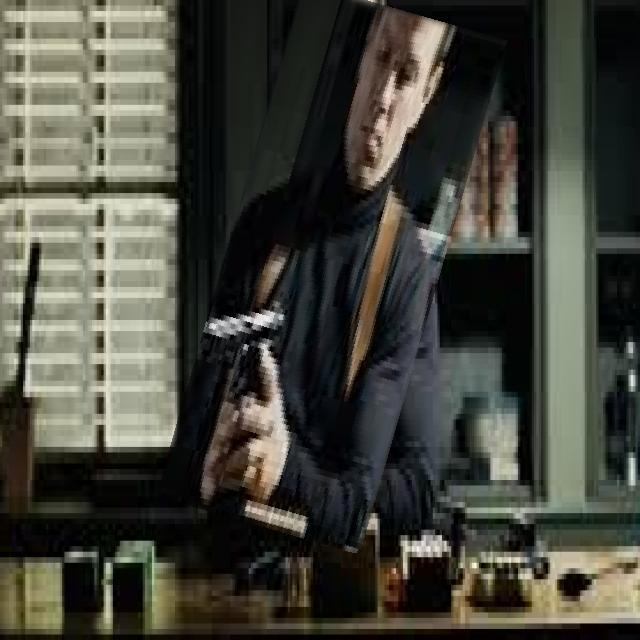Gun_Holder: (172, 303, 312, 476)
Person: (179, 0, 475, 640)
